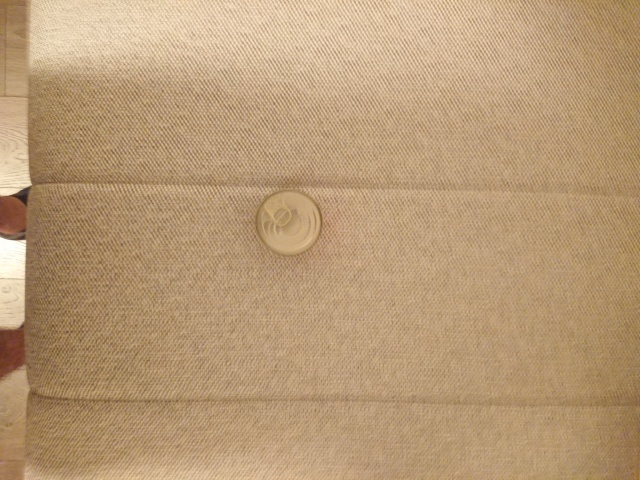Podravka Luncheon Meat 150g: (252, 187, 325, 259)
